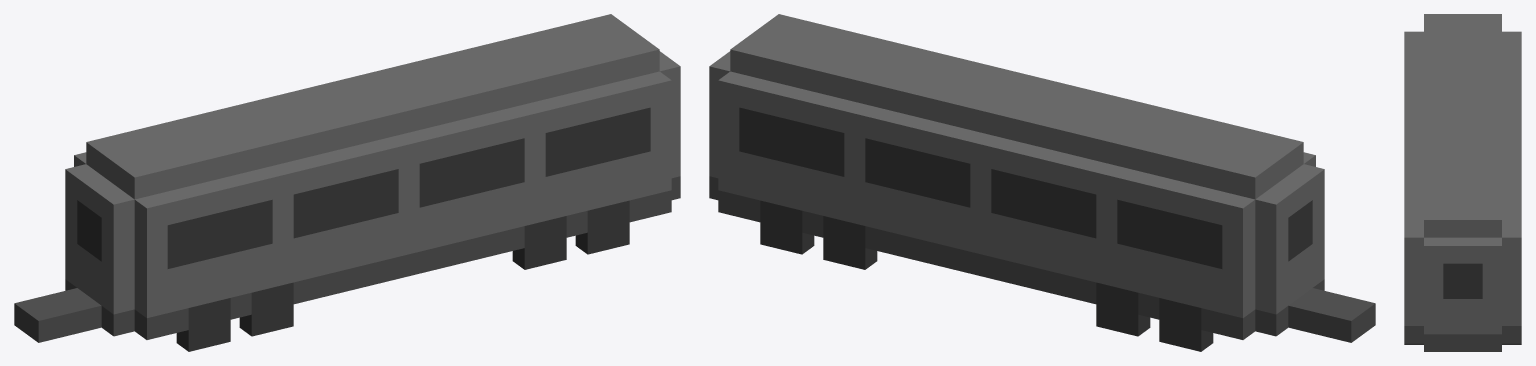
File: train-trailer-v4-grey.gltf
3 renders of one model, left to right at view 1: azimuth 30°, elevation 25°; view 2: azimuth 150°, elevation 25°; view 3: azimuth 270°, elevation 25°, orthographic. The views are drawn at different scales.
Parts seen in each view (by area): view 1: model, wheels; view 2: model, wheels; view 3: model.
Boxes of the visible parts, x1,y1,x2,y2 form: model: [14, 14, 680, 342]; wheels: [176, 200, 629, 351]; model: [709, 14, 1375, 342]; wheels: [760, 200, 1213, 351]; model: [1404, 14, 1521, 351].
Size of the model in its own units: 3 by 0.8 by 0.6.
Materials: 2 (2 with a texture image).
